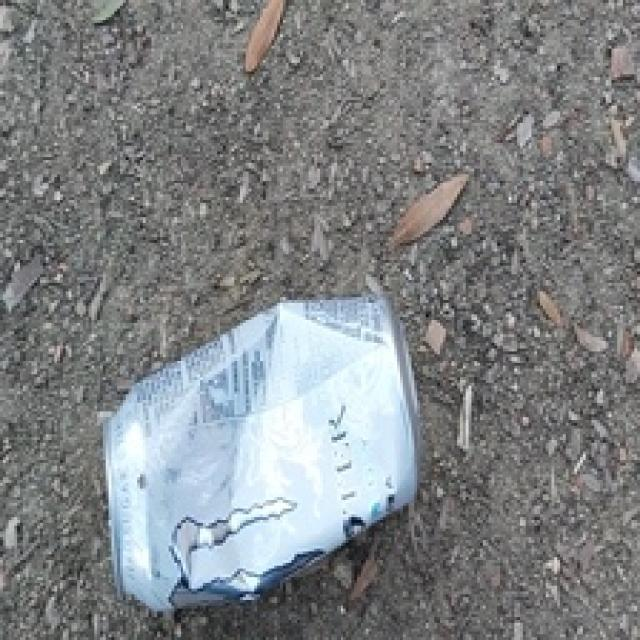recyclable: (103, 292, 426, 618)
